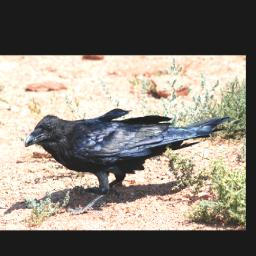Crow: (23, 107, 234, 217)
